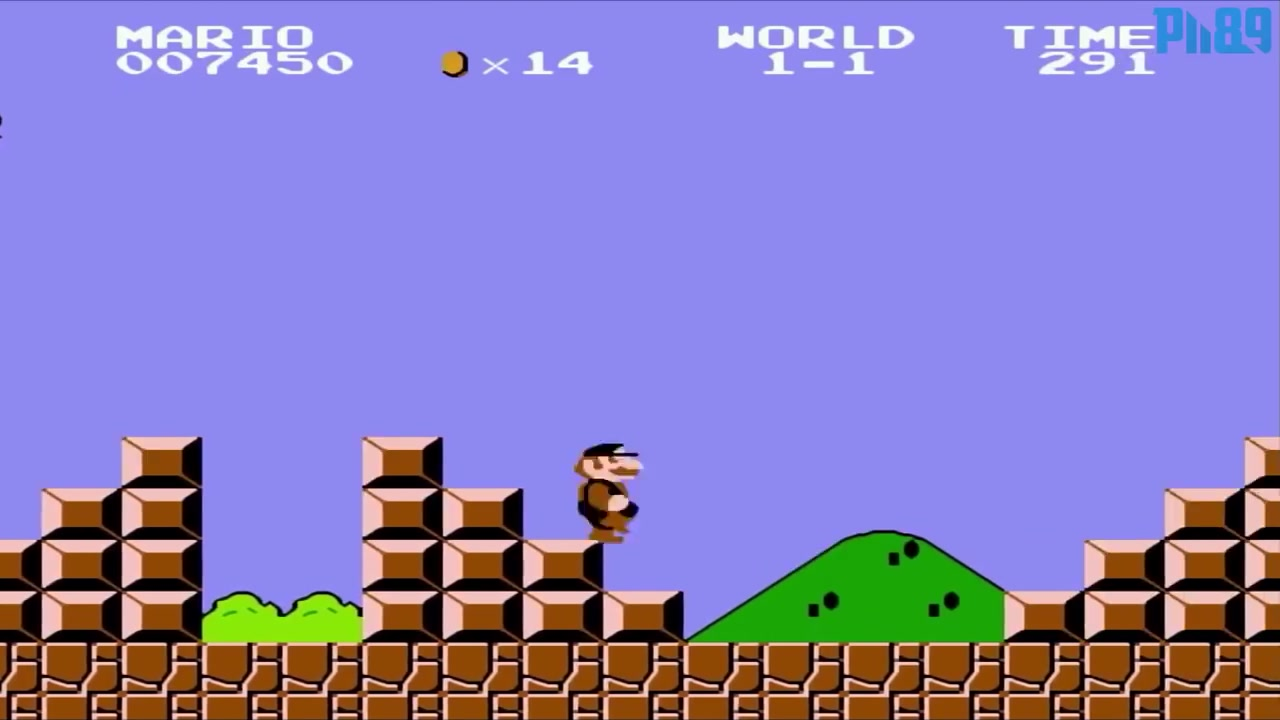mario: (572, 440, 648, 551)
